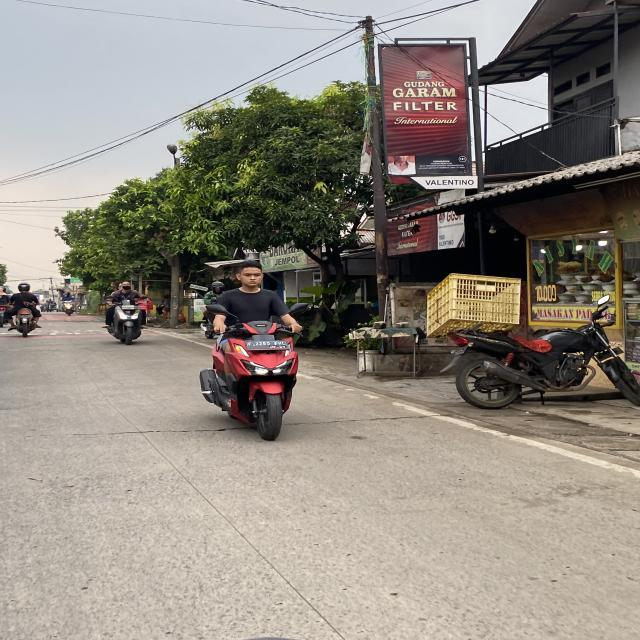Helmet: (211, 280, 224, 292), (18, 282, 30, 292)
Number Plate: (246, 340, 289, 350), (121, 304, 136, 310)
Rearview Mirror: (289, 303, 310, 316), (206, 304, 228, 315), (597, 294, 609, 306)
